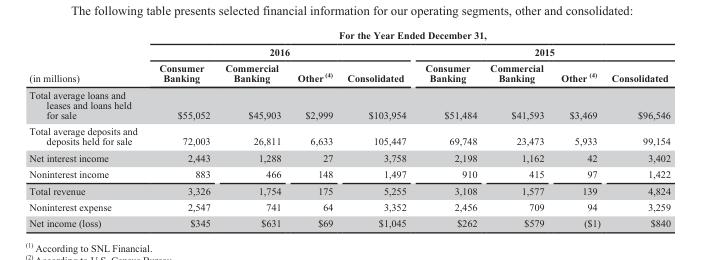table: (28, 29, 669, 228)
table column: (28, 29, 147, 228), (339, 29, 415, 228), (217, 29, 288, 228), (147, 29, 217, 228), (482, 29, 551, 228), (415, 29, 482, 228), (605, 29, 669, 228), (551, 29, 605, 228), (288, 29, 339, 228)
table column header: (28, 29, 669, 85)
table row: (28, 85, 669, 122), (28, 122, 669, 149), (28, 59, 669, 85), (28, 42, 669, 59), (28, 181, 669, 198), (28, 149, 669, 165), (28, 165, 669, 181), (28, 198, 669, 214), (28, 214, 669, 228), (28, 29, 669, 42)
table spanning cell: (147, 29, 669, 42), (28, 29, 147, 85), (147, 42, 415, 59), (415, 42, 669, 59)
